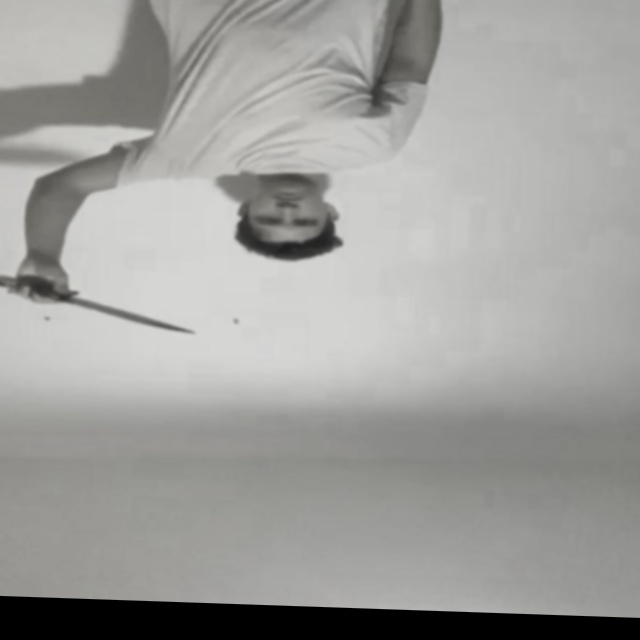Sharp-Object: (75, 300, 201, 335)
